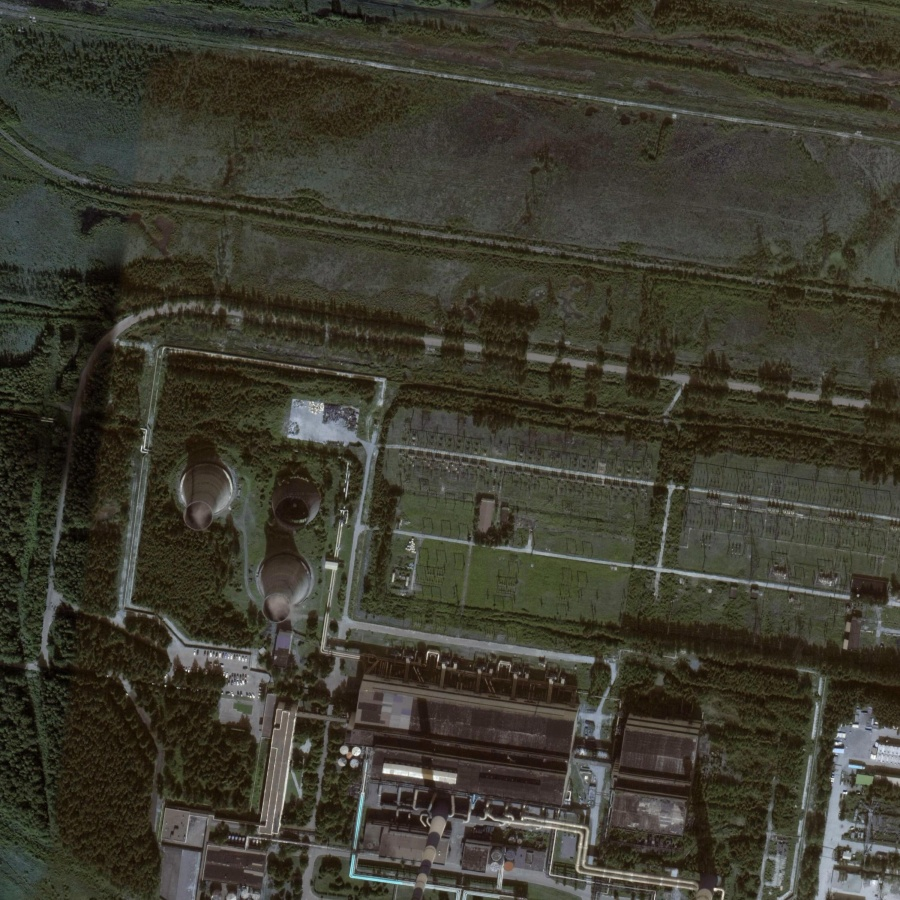PowerPlant: (152, 399, 351, 645)
